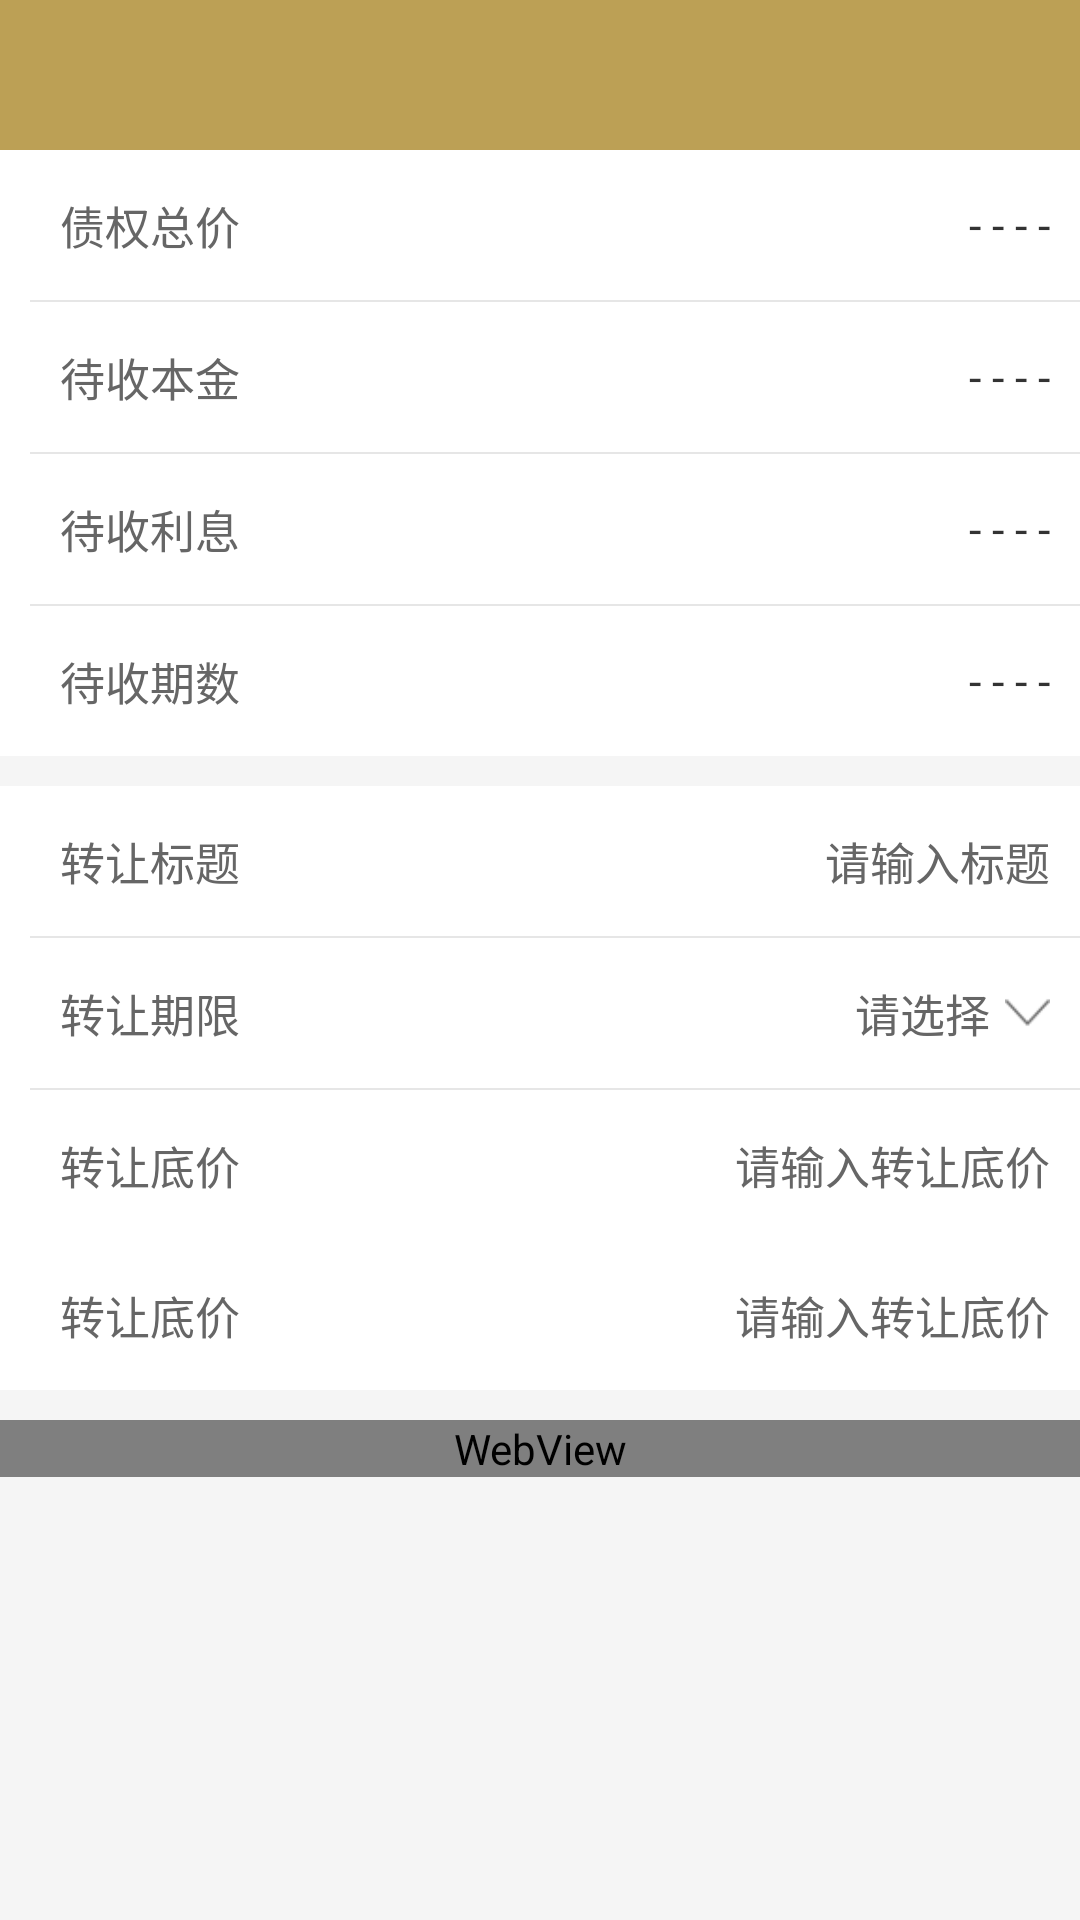

Screen size 1080 × 1920. Icon name, then its box in pixels as (x1, y1, x2, y2):
down arrow: (1005, 999, 1050, 1026)
